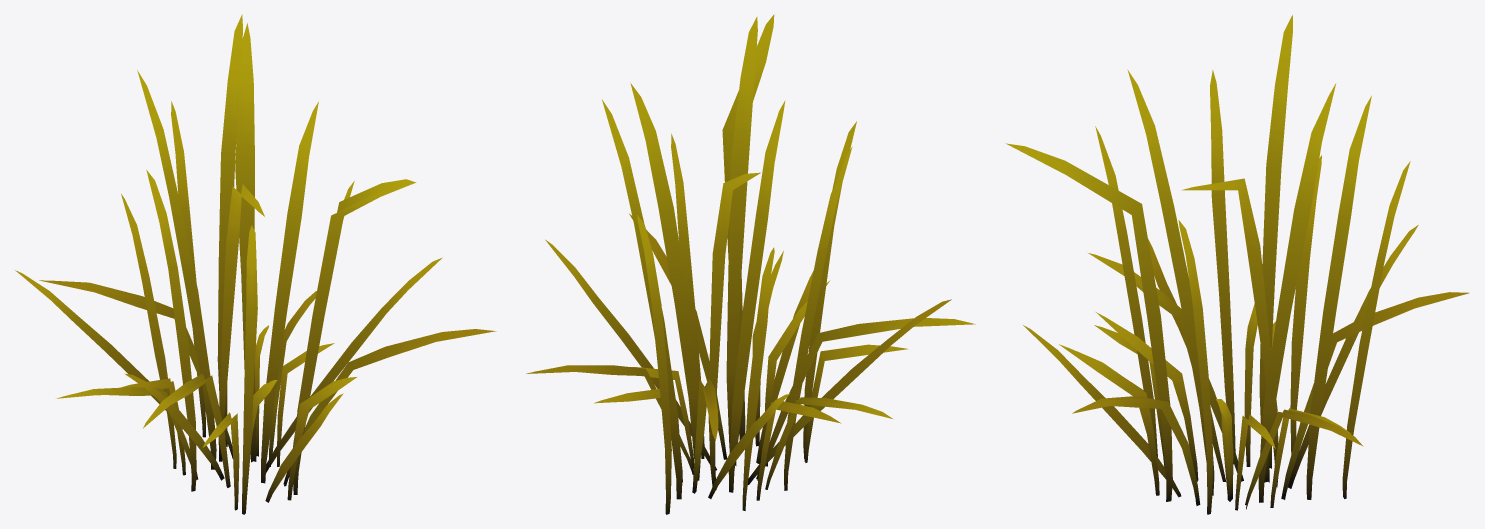
The model's file is nat_grass_wispy_tall.glb.
The picture shows the model from 3 angles, left to right: view 1: azimuth 30°, elevation 25°; view 2: azimuth 150°, elevation 25°; view 3: azimuth 270°, elevation 25°; orthographic projection. The views are drawn at different scales.
Visible parts, largest first — view 1: Grass_Wispy_Tall; view 2: Grass_Wispy_Tall; view 3: Grass_Wispy_Tall.
Part boxes in pixels (left/top/right/bottom): Grass_Wispy_Tall: left=15, top=14, right=496, bottom=514; Grass_Wispy_Tall: left=526, top=14, right=975, bottom=514; Grass_Wispy_Tall: left=1005, top=15, right=1469, bottom=514.
Bounding box in the file's own units: 1.54 × 1.67 × 1.59.
Materials: 1 (1 with a texture image).
